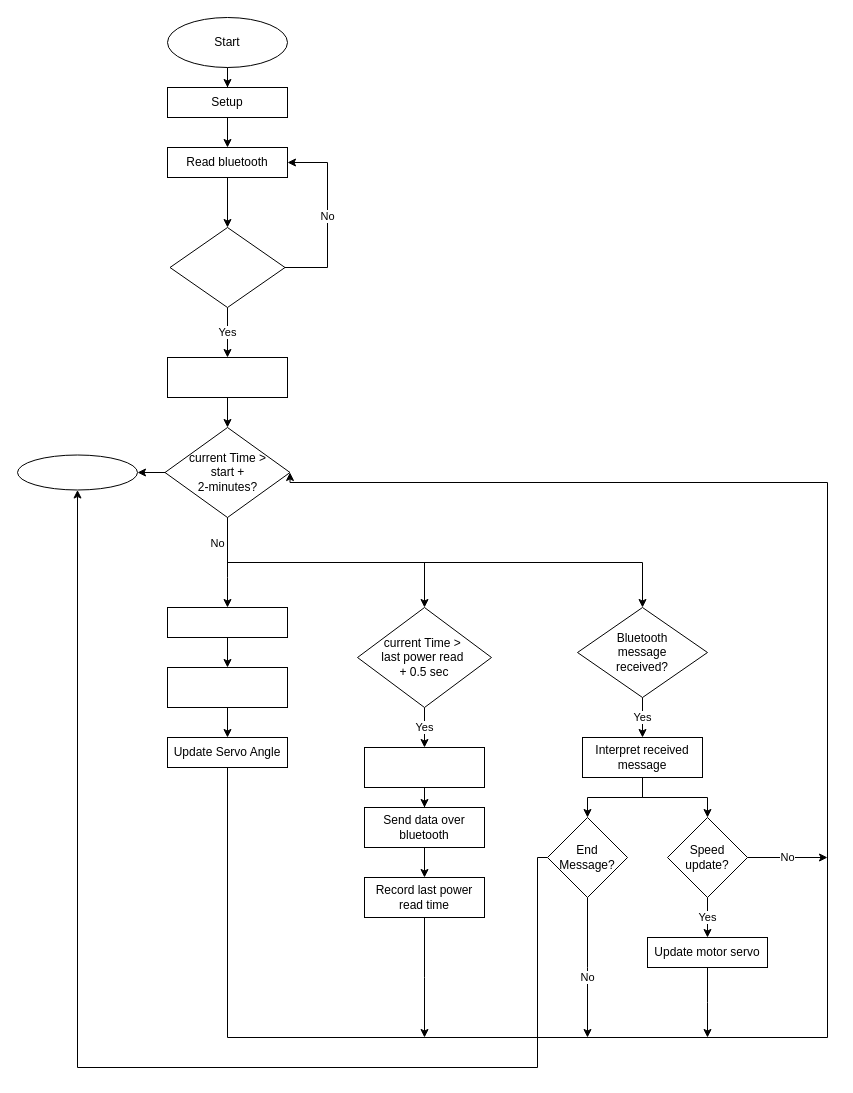
Image size: 853x1093. Some labels were removed from this diagram. Each missing label, with the box of its shape:
End: (16, 454, 138, 490)
Get Camera Data: (166, 606, 288, 638)
Perform Servo Angle Calculations: (166, 666, 288, 708)
Read power data from INA: (364, 746, 484, 788)
Received Bluetooth Start?: (169, 226, 285, 308)
Record 2-minute start time: (166, 356, 288, 398)
